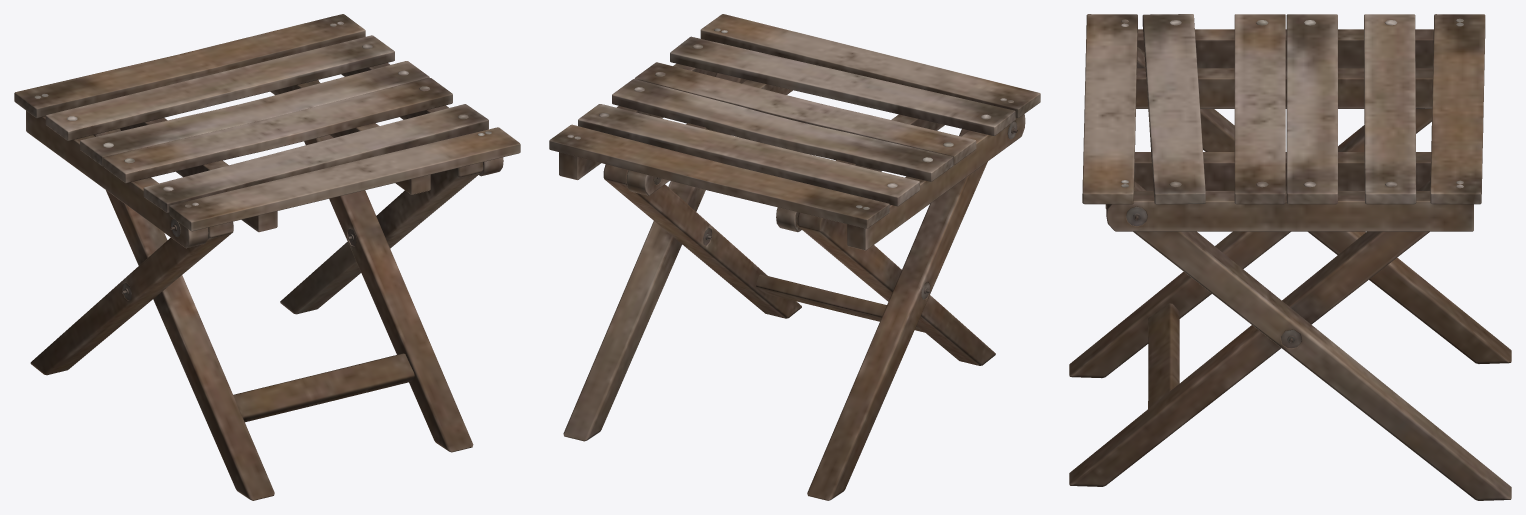
Rendered from p_folding_wooden_stool.glb.
3 renders of one model, left to right at view 1: azimuth 30°, elevation 25°; view 2: azimuth 150°, elevation 25°; view 3: azimuth 270°, elevation 25°, orthographic. The views are drawn at different scales.
Parts seen in each view (by area): view 1: folding_wooden_stool; view 2: folding_wooden_stool; view 3: folding_wooden_stool.
Part boxes in pixels (left/top/right/bottom): folding_wooden_stool: left=14, top=14, right=520, bottom=500; folding_wooden_stool: left=549, top=14, right=1040, bottom=500; folding_wooden_stool: left=1069, top=14, right=1511, bottom=500.
Size of the model in its own units: 0.5278 by 0.442 by 0.5471.
Materials: 1 (1 with a texture image).
